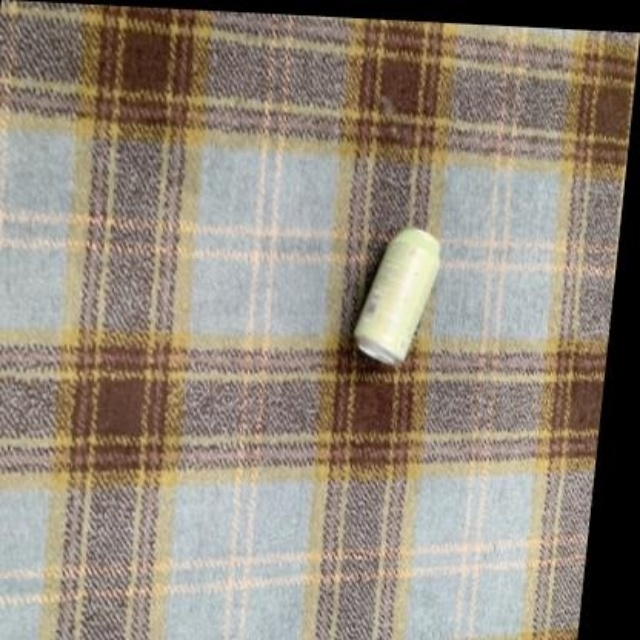trash: (354, 228, 438, 363)
